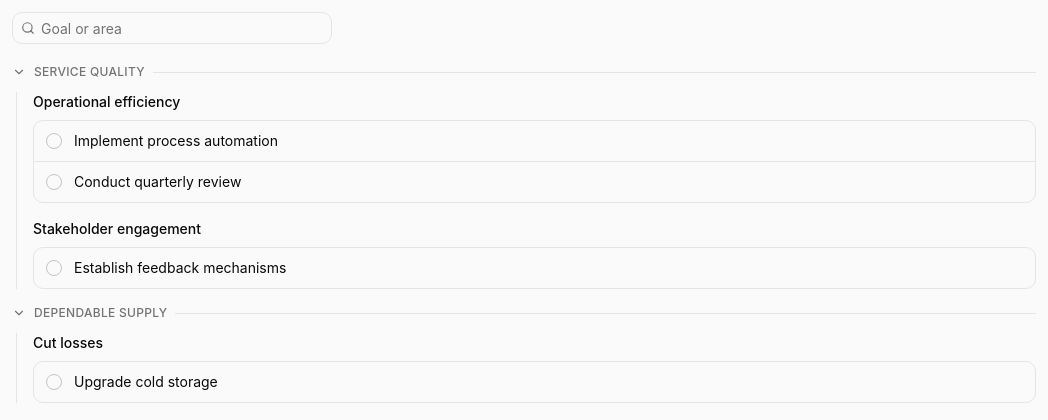
Scenario: ChipPicker › says so when nothing matches
Type "zzz" into the field with placeholder "Goal or area" at (183,28), box [35, 12, 331, 44]
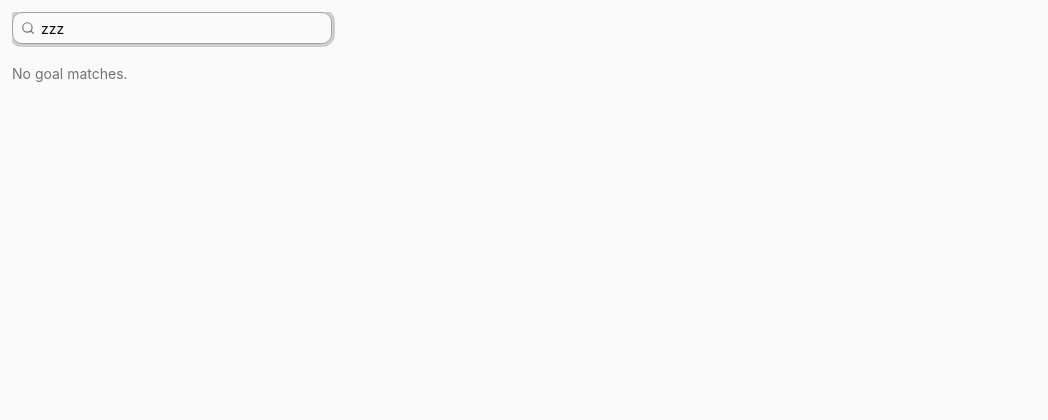
Now the text "No goal matches." is shown, box [12, 65, 128, 82]
